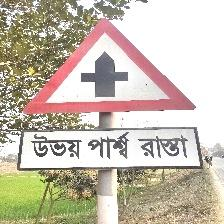Crossroad: (8, 8, 207, 181)
